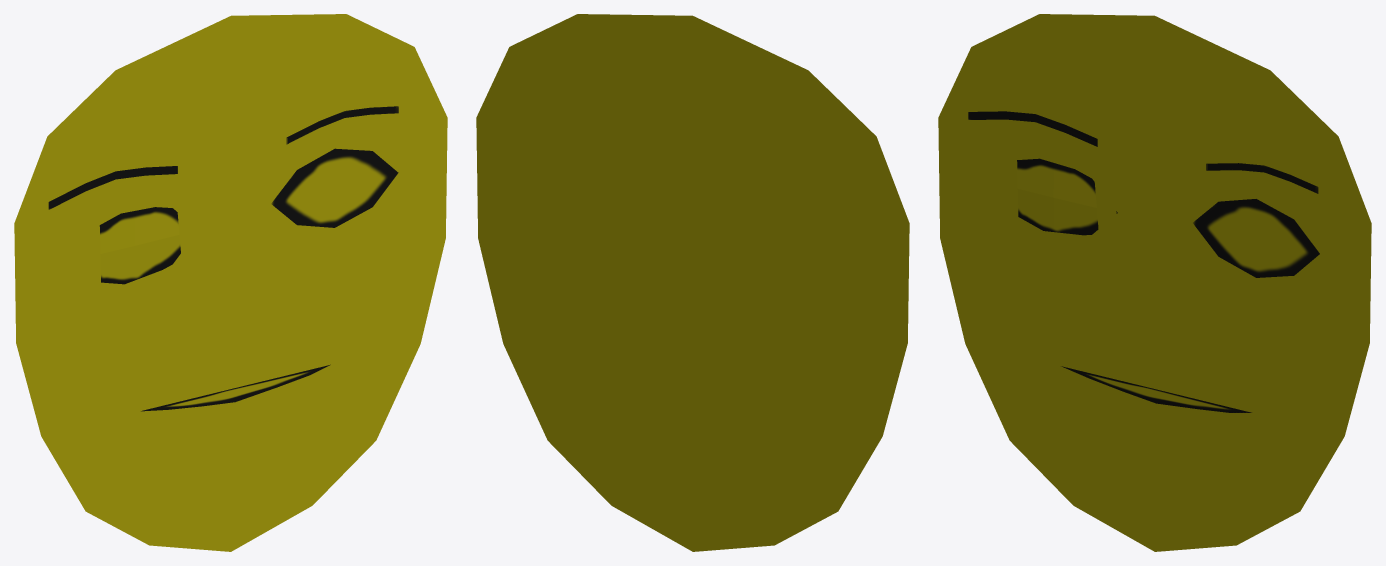
Rendered from basic_avatar_head-edit3.gltf.
3 views of the same model, side by side, from view 1: azimuth 30°, elevation 25°; view 2: azimuth 150°, elevation 25°; view 3: azimuth 330°, elevation 25° (orthographic).
Parts seen in each view (by area): view 1: head, leftEye, rightEye, mouth, rightEyebrow, leftEyebrow; view 2: head; view 3: head, leftEye, rightEye, mouth, rightEyebrow, leftEyebrow.
Part boxes in pixels (<box>): head: <box>14,14,447,551</box>; leftEye: <box>271,148,398,227</box>; rightEye: <box>99,207,180,284</box>; mouth: <box>141,364,330,411</box>; rightEyebrow: <box>48,166,177,209</box>; leftEyebrow: <box>286,106,398,144</box>; head: <box>476,14,909,551</box>; head: <box>938,14,1371,551</box>; leftEye: <box>1193,199,1319,277</box>; rightEye: <box>1017,158,1117,235</box>; mouth: <box>1061,366,1251,412</box>; rightEyebrow: <box>968,111,1097,146</box>; leftEyebrow: <box>1206,163,1318,193</box>.
Bounding box in the file's own units: 3.08 × 3.64 × 0.0411.
6 materials, 6 textured.
